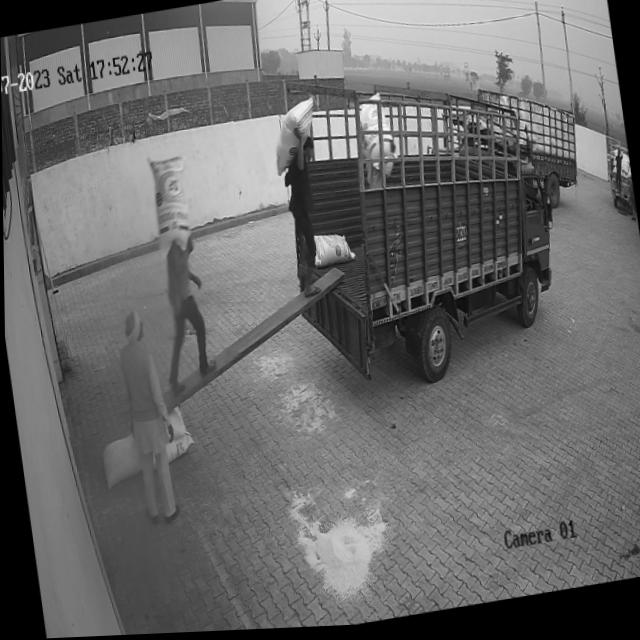sack: (145, 151, 196, 258), (267, 97, 321, 178), (97, 434, 137, 489), (309, 231, 353, 272), (161, 407, 185, 445), (163, 432, 193, 462)
